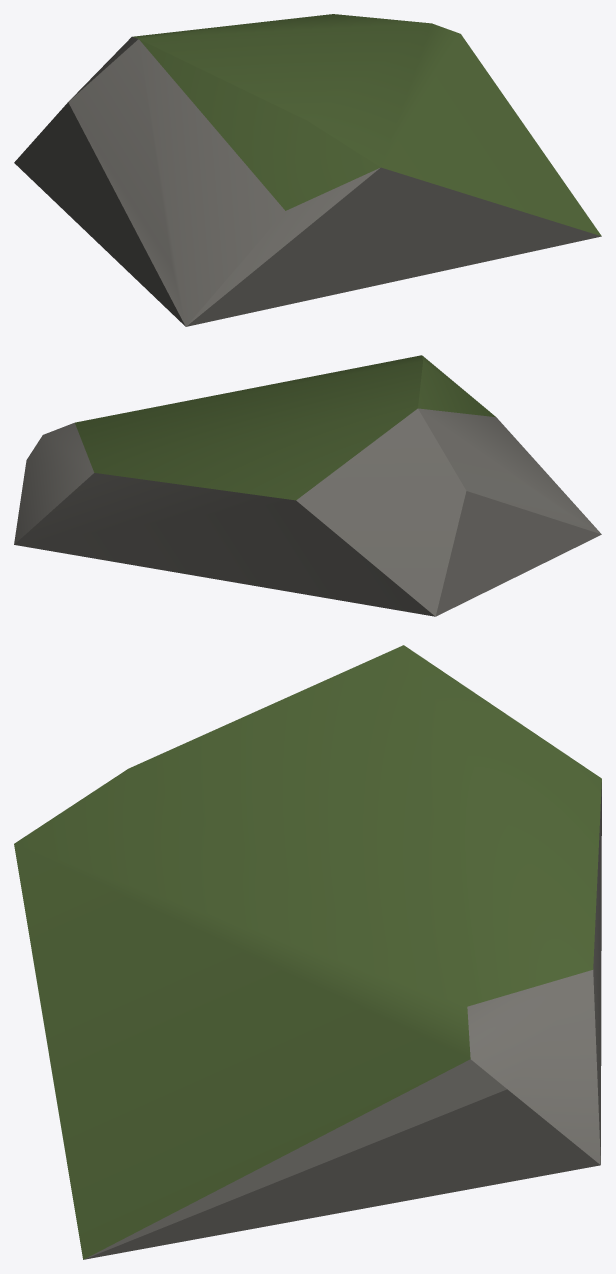
File: RockSlab.fbx
3 renders of one model, top to bottom at view 1: azimuth 30°, elevation 25°; view 2: azimuth 150°, elevation 25°; view 3: azimuth 270°, elevation 25°, orthographic. The views are drawn at different scales.
Parts seen in each view (by area): view 1: RockSlab; view 2: RockSlab; view 3: RockSlab.
Part boxes in pixels (box(x1,y1,x2,y2)): RockSlab: box(14, 14, 601, 326); RockSlab: box(14, 355, 601, 616); RockSlab: box(14, 645, 601, 1259).
Size of the model in its own units: 1.21 by 0.5675 by 0.9024.
